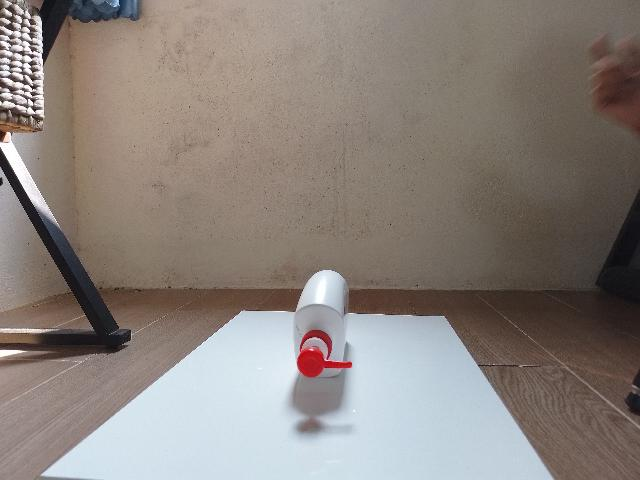life-buoy: (293, 270, 353, 378)
